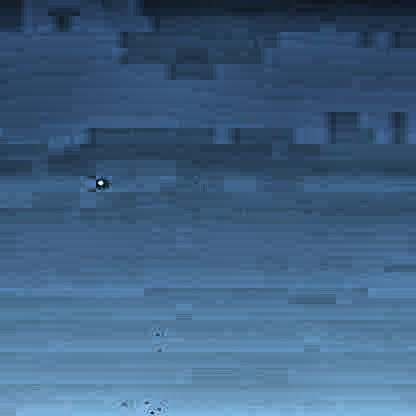golfball: (94, 176, 104, 186)
